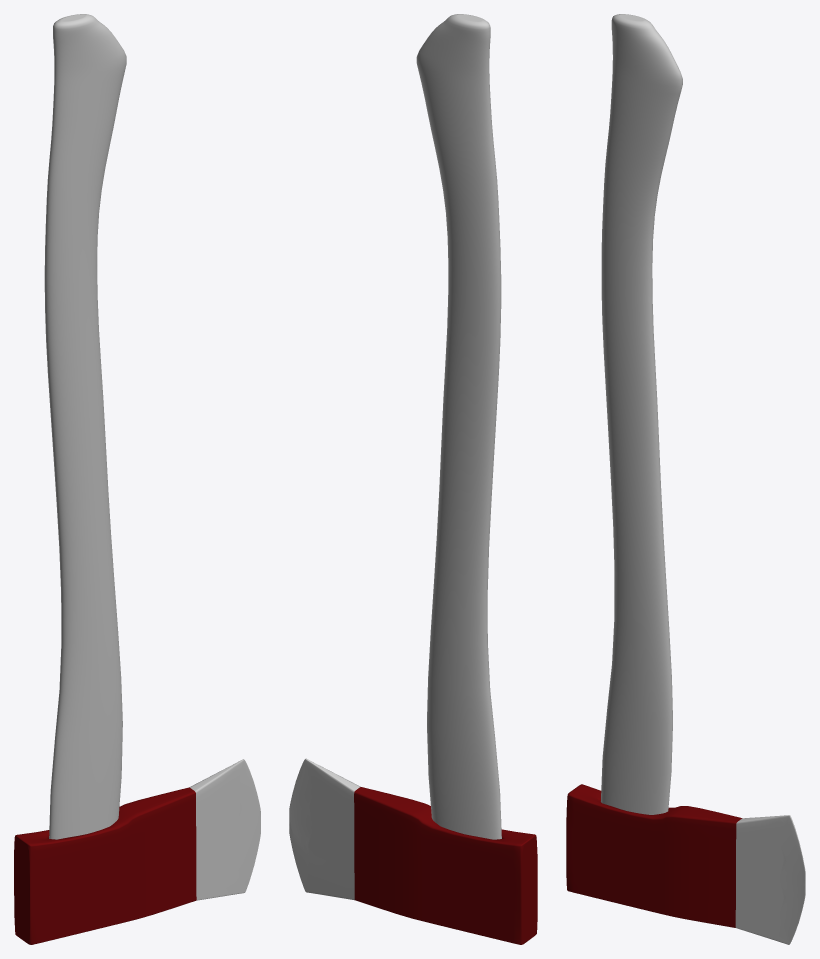
The model's file is Axe.gltf.
3 views of the same model, side by side, from view 1: azimuth 30°, elevation 25°; view 2: azimuth 150°, elevation 25°; view 3: azimuth 330°, elevation 25° (orthographic). The views are drawn at different scales.
Parts seen in each view (by area): view 1: Axe; view 2: Axe; view 3: Axe.
Part boxes in pixels (bbox=[...]): Axe: bbox=[14, 14, 260, 944]; Axe: bbox=[289, 14, 537, 944]; Axe: bbox=[566, 14, 805, 944].
Size of the model in its own units: 6.3 by 23 by 0.8313.
